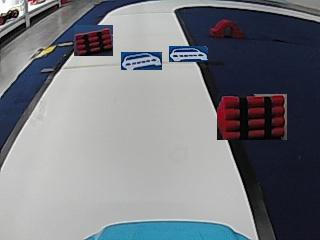bridge: (209, 16, 242, 38)
